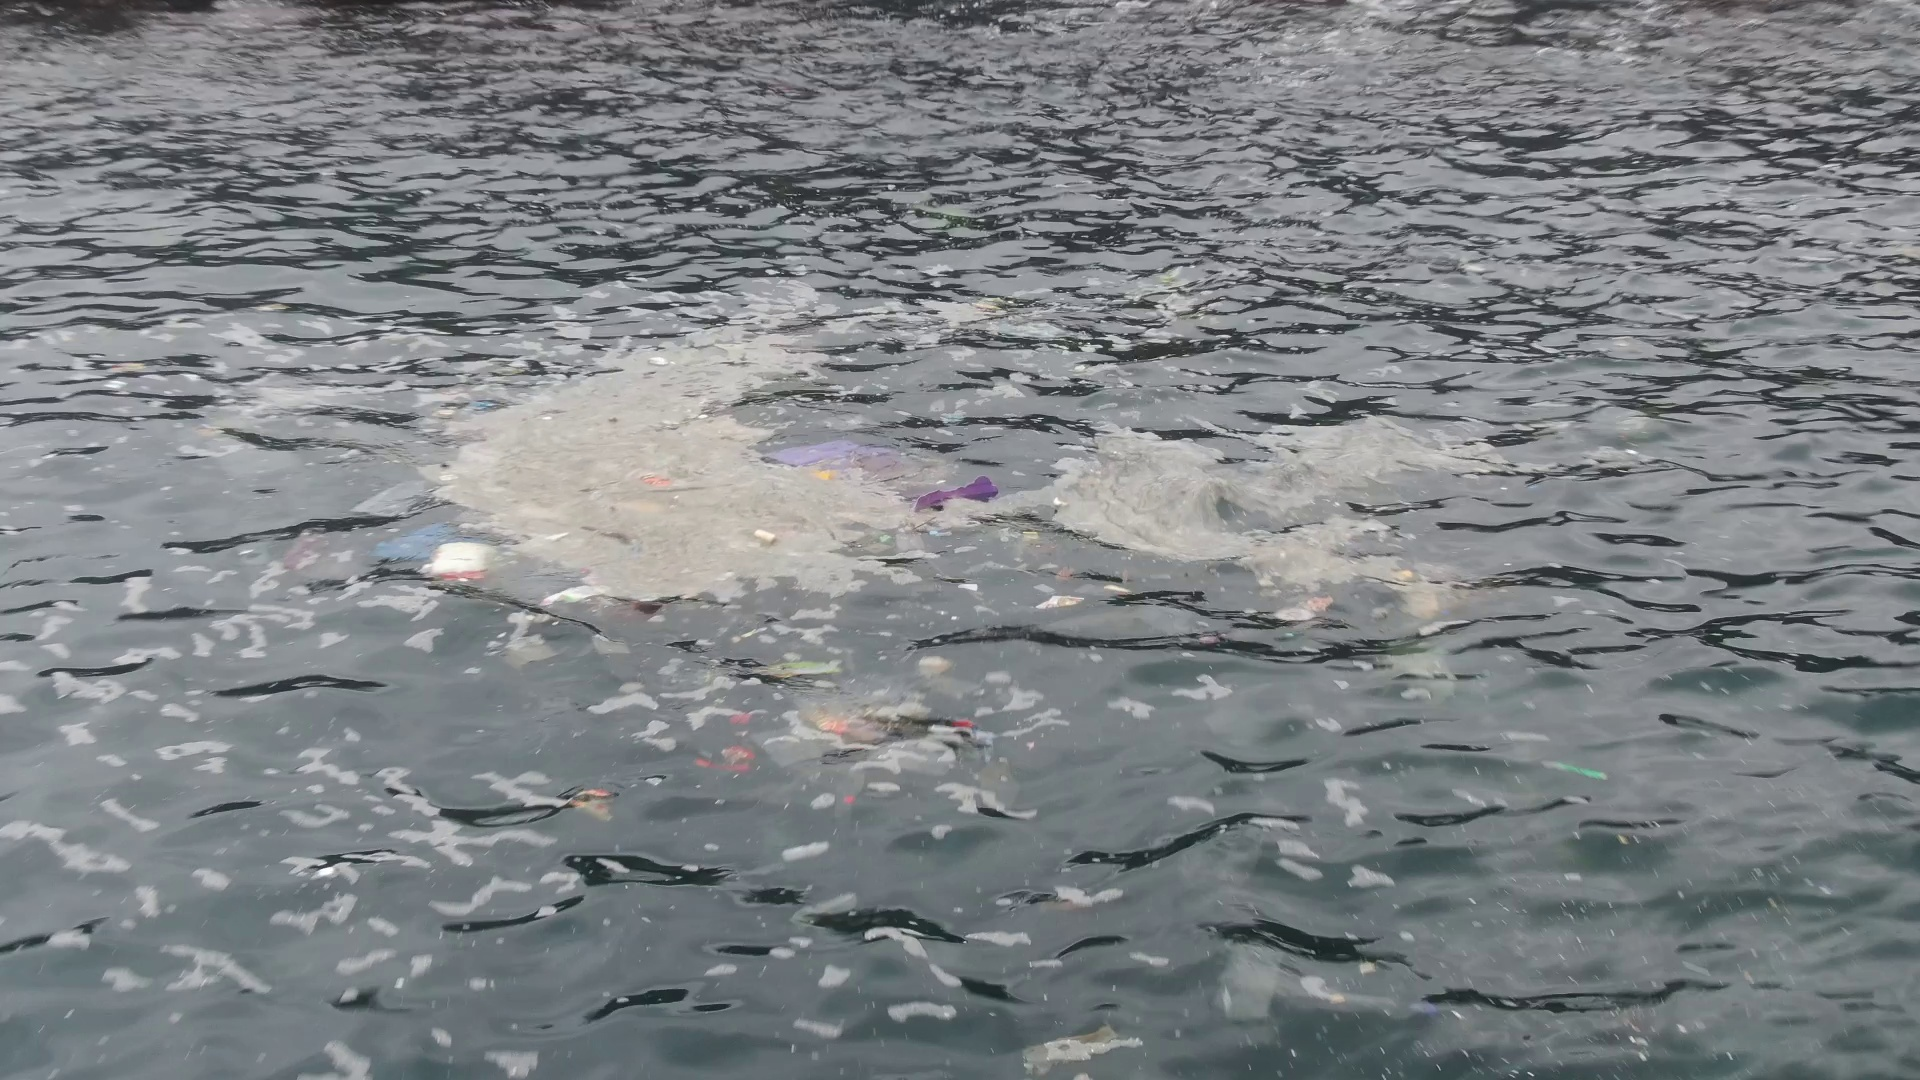garbage: (277, 381, 993, 597), (812, 699, 982, 746), (738, 655, 845, 686), (1033, 567, 1100, 611), (566, 781, 615, 825), (695, 740, 753, 775), (1549, 760, 1614, 786), (1278, 599, 1332, 624)
